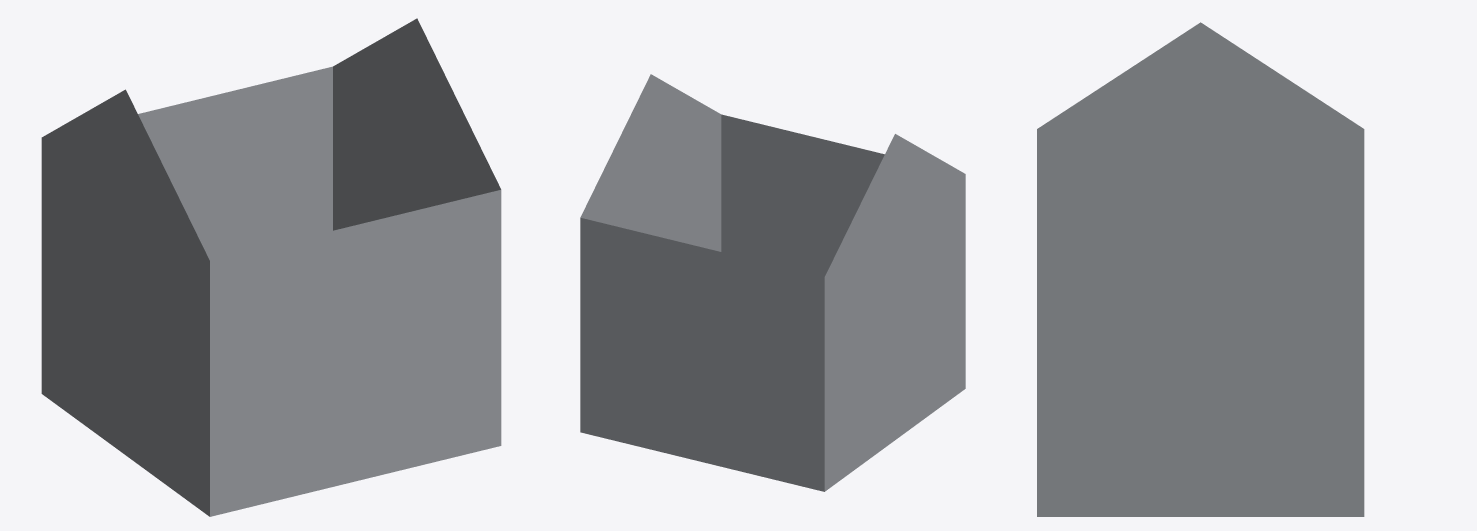
Rendered from Bld_I_med_L1_A.fbx.
3 renders of one model, left to right at view 1: azimuth 30°, elevation 25°; view 2: azimuth 150°, elevation 25°; view 3: azimuth 270°, elevation 25°, orthographic. The views are drawn at different scales.
Visible parts, largest first — view 1: Bld_I_med_L1_A_LOD0; view 2: Bld_I_med_L1_A_LOD0; view 3: Bld_I_med_L1_A_LOD0.
Boxes of the visible parts, <box> form: Bld_I_med_L1_A_LOD0: <box>41,18,501,516</box>; Bld_I_med_L1_A_LOD0: <box>580,74,965,491</box>; Bld_I_med_L1_A_LOD0: <box>1037,22,1364,516</box>.
Size of what is drawn, in the model's own units: 560 by 650 by 680.
Materials: 1 (1 with a texture image).
